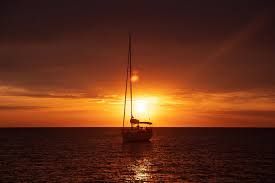boat: (121, 32, 154, 144)
